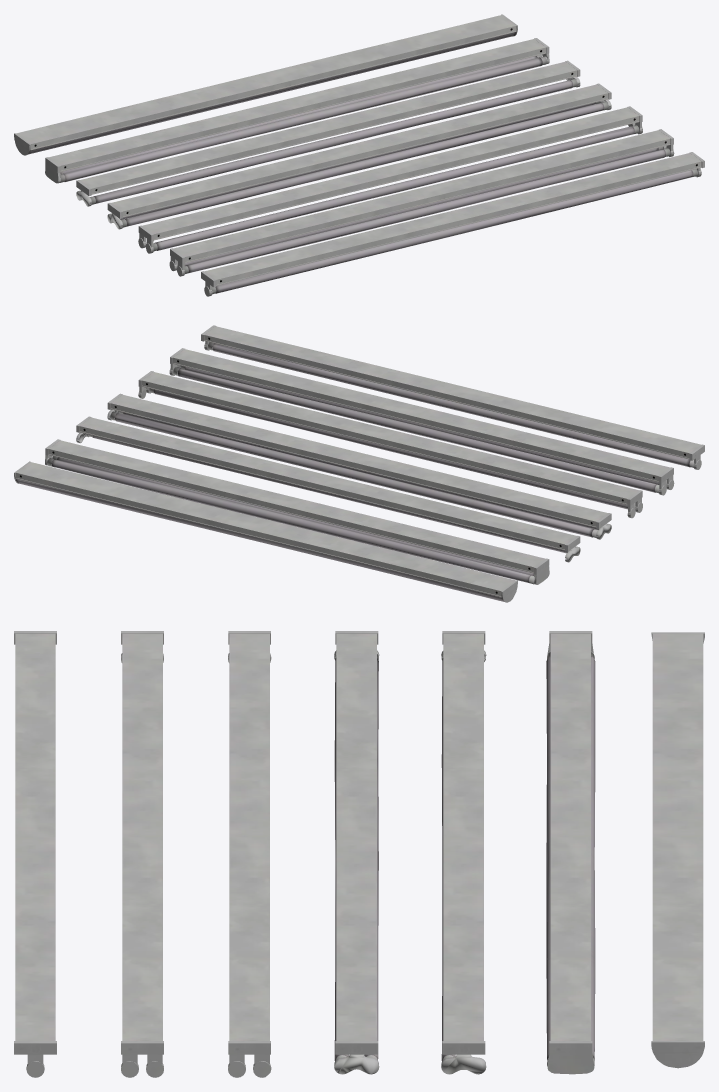
The model's file is fluorescentLight.glb.
The picture shows the model from 3 angles, top to bottom: view 1: azimuth 30°, elevation 25°; view 2: azimuth 150°, elevation 25°; view 3: azimuth 270°, elevation 25°; orthographic projection. The views are drawn at different scales.
Visible parts, largest first — view 1: mounted_fluorescent_lights_a; view 2: mounted_fluorescent_lights_a; view 3: mounted_fluorescent_lights_a.
Part boxes in pixels (box(x1,y1,x2,y2)): mounted_fluorescent_lights_a: box(14, 14, 704, 296); mounted_fluorescent_lights_a: box(14, 325, 704, 602); mounted_fluorescent_lights_a: box(14, 631, 704, 1077).
Size of the model in its own units: 0.9122 by 0.0354 by 0.6454.
2 materials, 2 textured.
